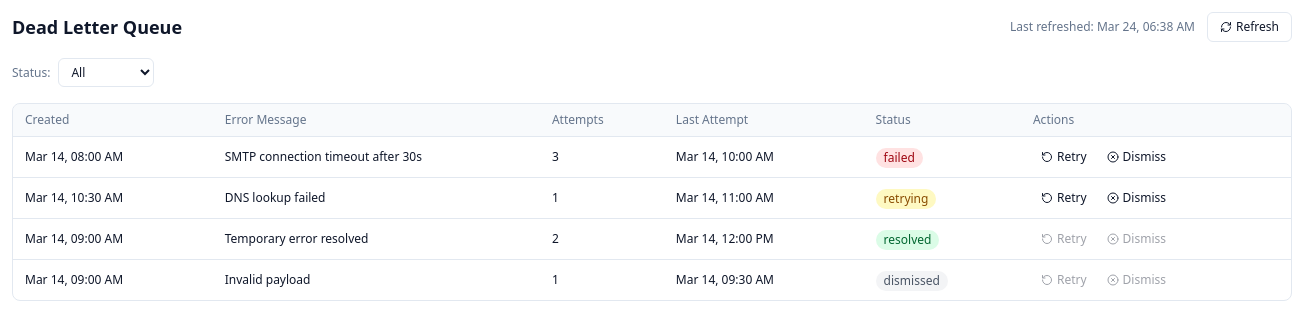
Scenario: DLQMonitor › shows confirmation dialog for dismiss
Click the button with test id "dlq-dismiss-evt1" at (1136,157), box x1=1099 y1=145 x2=1174 y2=169
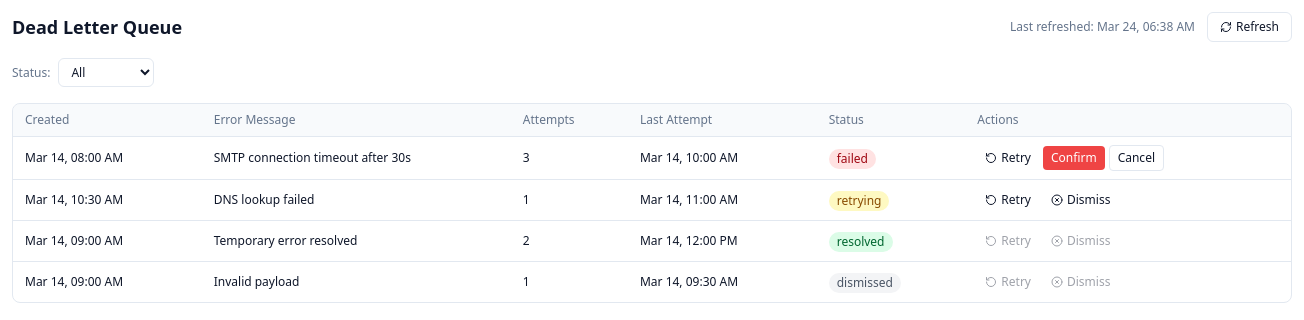
Expected: the button with test id "dlq-dismiss-confirm-evt1" is shown, x1=1043 y1=146 x2=1105 y2=170
